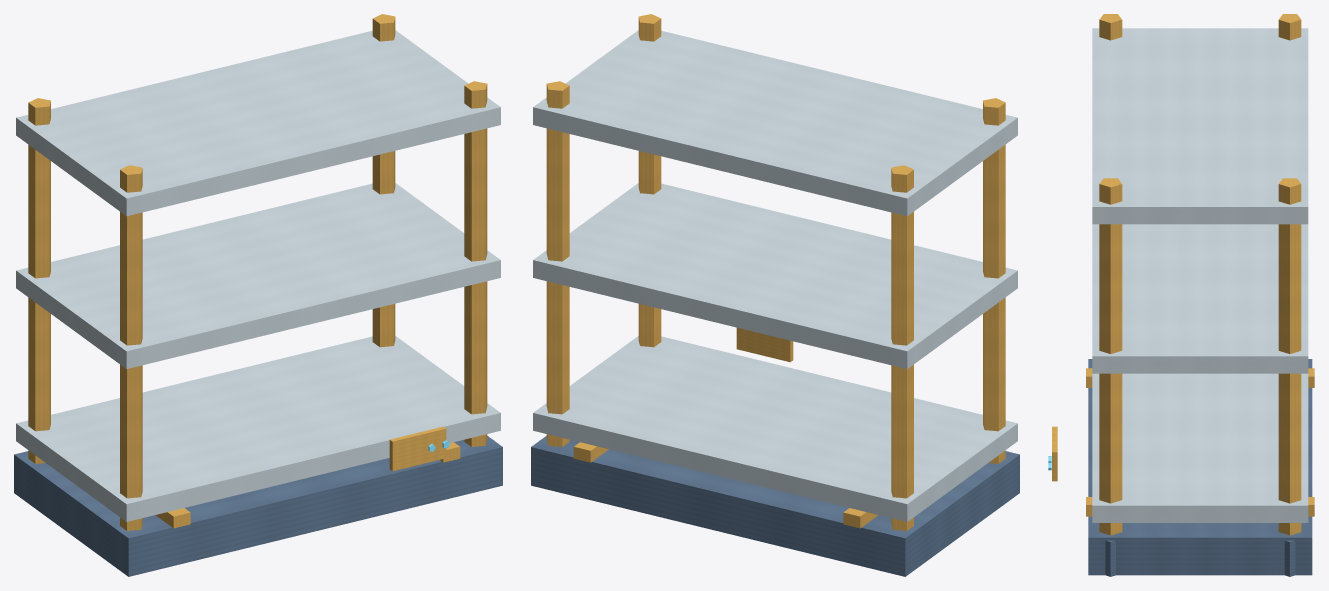
File: atlas100-s059-a06.lod1.glb
The picture shows the model from 3 angles, left to right: view 1: azimuth 30°, elevation 25°; view 2: azimuth 150°, elevation 25°; view 3: azimuth 270°, elevation 25°; orthographic projection. The views are drawn at different scales.
Parts seen in each view (by area): view 1: atlas100-s059-a06:part-013, atlas100-s059-a06:part-012, atlas100-s059-a06:part-011, atlas100-s059-a06:part-000, atlas100-s059-a06:part-009, atlas100-s059-a06:part-005, atlas100-s059-a06:part-003, atlas100-s059-a06:part-007, atlas100-s059-a06:part-014; view 2: atlas100-s059-a06:part-013, atlas100-s059-a06:part-012, atlas100-s059-a06:part-011, atlas100-s059-a06:part-000, atlas100-s059-a06:part-007, atlas100-s059-a06:part-003, atlas100-s059-a06:part-005, atlas100-s059-a06:part-009, atlas100-s059-a06:part-014; view 3: atlas100-s059-a06:part-013, atlas100-s059-a06:part-012, atlas100-s059-a06:part-011, atlas100-s059-a06:part-000, atlas100-s059-a06:part-009, atlas100-s059-a06:part-007, atlas100-s059-a06:part-003, atlas100-s059-a06:part-005, atlas100-s059-a06:part-008, atlas100-s059-a06:part-010.
Boxes of the visible parts, x1,y1,x2,y2 form: atlas100-s059-a06:part-013: (16, 30, 500, 216); atlas100-s059-a06:part-012: (16, 183, 500, 369); atlas100-s059-a06:part-011: (16, 336, 500, 521); atlas100-s059-a06:part-000: (14, 436, 502, 576); atlas100-s059-a06:part-009: (464, 81, 487, 446); atlas100-s059-a06:part-005: (120, 165, 142, 530); atlas100-s059-a06:part-003: (28, 98, 50, 463); atlas100-s059-a06:part-007: (372, 14, 395, 347); atlas100-s059-a06:part-014: (389, 426, 446, 471); atlas100-s059-a06:part-013: (533, 30, 1017, 216); atlas100-s059-a06:part-012: (533, 183, 1017, 369); atlas100-s059-a06:part-011: (533, 336, 1017, 521); atlas100-s059-a06:part-000: (531, 436, 1019, 576); atlas100-s059-a06:part-007: (546, 81, 569, 446); atlas100-s059-a06:part-003: (891, 165, 913, 530); atlas100-s059-a06:part-005: (983, 98, 1005, 463); atlas100-s059-a06:part-009: (638, 14, 661, 347); atlas100-s059-a06:part-014: (736, 327, 793, 362); atlas100-s059-a06:part-013: (1092, 28, 1308, 224); atlas100-s059-a06:part-012: (1092, 224, 1308, 373); atlas100-s059-a06:part-011: (1092, 373, 1308, 522); atlas100-s059-a06:part-000: (1088, 359, 1312, 575); atlas100-s059-a06:part-009: (1099, 178, 1122, 535); atlas100-s059-a06:part-007: (1278, 178, 1301, 535); atlas100-s059-a06:part-003: (1278, 14, 1301, 40); atlas100-s059-a06:part-005: (1099, 14, 1122, 40); atlas100-s059-a06:part-008: (1284, 540, 1295, 576); atlas100-s059-a06:part-010: (1105, 540, 1115, 576).
Size of the model in its own units: 2.66 by 2.66 by 1.66.
Materials: 4 (4 with a texture image).
